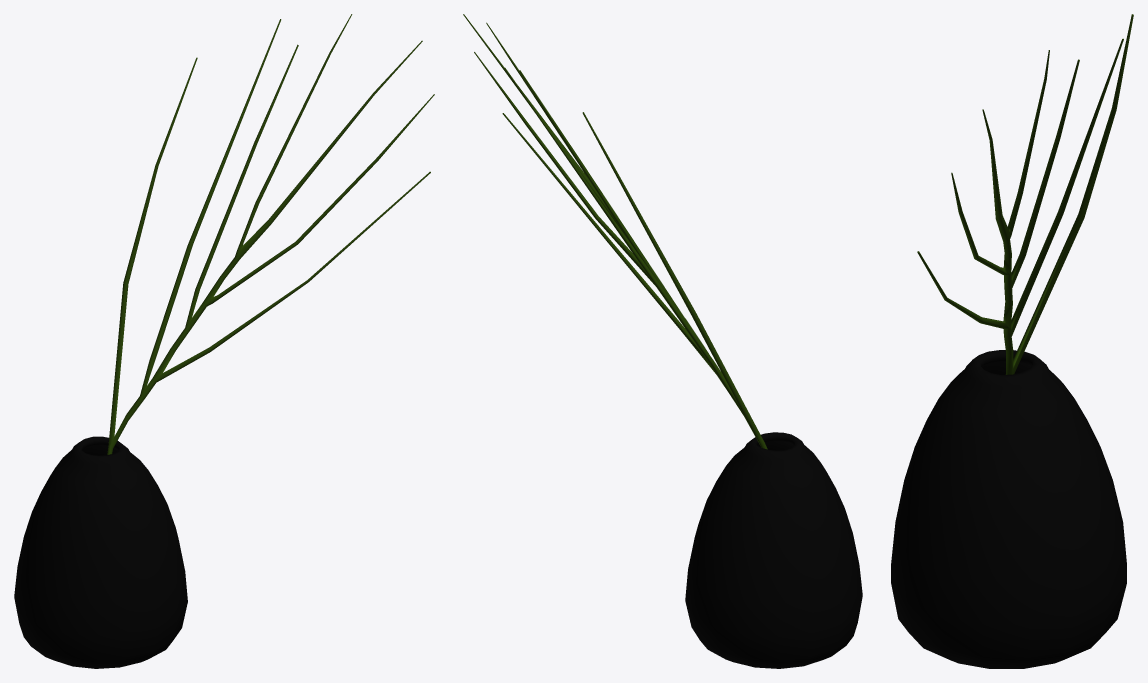
Rendered from DECO_Pot_Plants_01_02.FBX.
3 renders of one model, left to right at view 1: azimuth 30°, elevation 25°; view 2: azimuth 150°, elevation 25°; view 3: azimuth 270°, elevation 25°, orthographic. The views are drawn at different scales.
Visible parts, largest first — view 1: 19 Glass Pebble vase 2 cone; view 2: 19 Glass Pebble vase 2 cone; view 3: 19 Glass Pebble vase 2 cone.
Part boxes in pixels (box(x1,y1,x2,y2)): 19 Glass Pebble vase 2 cone: box(14, 14, 434, 668); 19 Glass Pebble vase 2 cone: box(463, 14, 862, 668); 19 Glass Pebble vase 2 cone: box(891, 14, 1133, 668).
Size of the model in its own units: 27.12 by 37.23 by 10.65.
